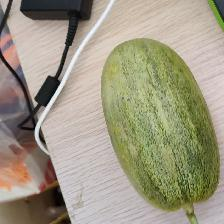gua: (105, 38, 210, 205)
